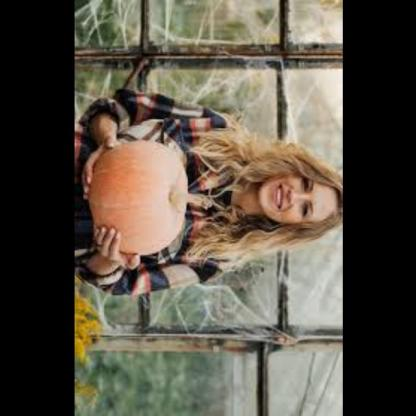pumpkin: (90, 131, 195, 264)
